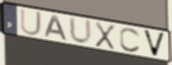A: (44, 14, 69, 42)
C: (119, 26, 142, 54)
U: (68, 15, 94, 46), (19, 7, 44, 37)
V: (141, 28, 167, 59)
X: (94, 20, 117, 52)
